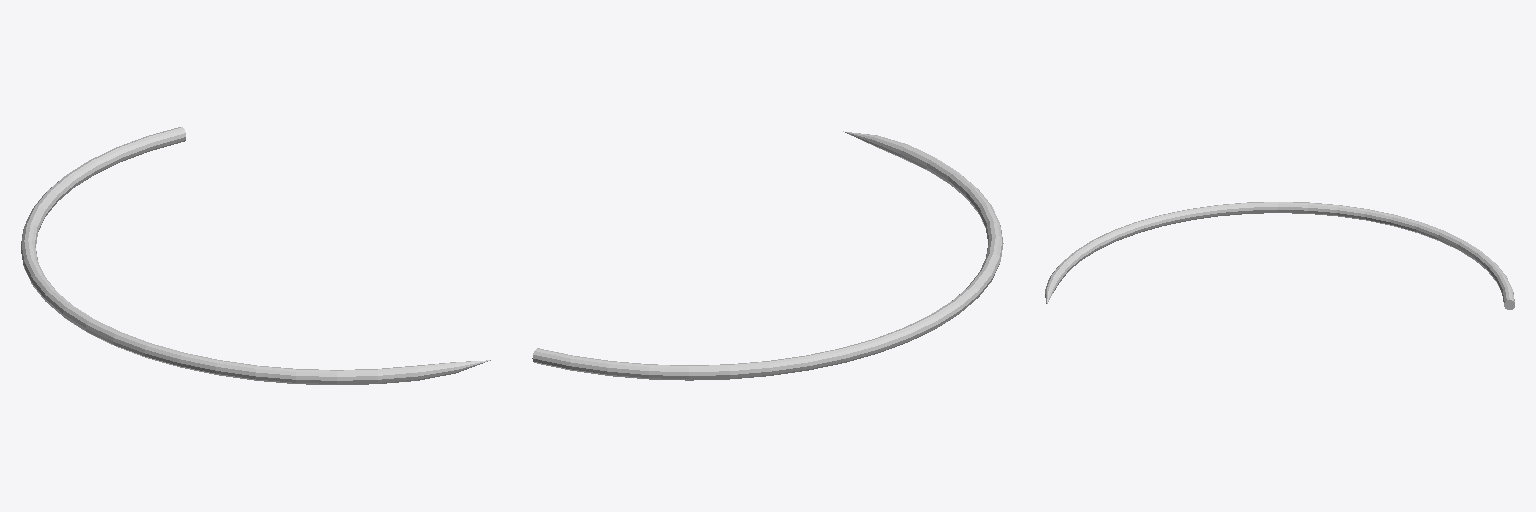
URDF robot description (needle):
<?xml version="0.0" ?>
<robot name="needle">
    <material name="grey">
        <color rgba="0.85 0.85 0.85 1"/>
    </material>

    <link name="baseLink">
        <contact>
            <lateral_friction value="1.0"/>
            <!--      rolling_friction: important (0.1 failed)-->
            <rolling_friction value="0.0"/>
        </contact>
        <inertial>
            <!--      tours: 30, 8-->
            <!--      major radius: 0.02, minor radius: 0.0005-->
            <!--      vis: radius=0.02, in radius=0.0005-->
            <!--      col: radius=0.02, in radius=0.0006-->
            <!--      center of mass: 2*R/pi; important-->
            <origin rpy="0 0 0" xyz="-0.0127 0 0"/>
            <mass value="0.51"/>
            <inertia ixx="0." ixy="0" ixz="0" iyy="0." iyz="0" izz="0."/>
        </inertial>
        <visual>
            <origin rpy="0 0 0" xyz="0 0 0"/>
            <geometry>
                <mesh filename="meshes/needle_40mm.obj" scale="1 1 1"/>
            </geometry>
            <material name="grey"/>
        </visual>
        <collision>
            <origin rpy="0 0 0" xyz="0 0 0"/>
            <geometry>
                <mesh filename="meshes/needle_40mm_vhacd.obj" scale="1 1 1"/>
            </geometry>
        </collision>
    </link>

    <link name="waypoint_0">
        <!--    origin-->
        <inertial>
            <origin rpy="0 0 0" xyz="0 0 0"/>
            <mass value=".0"/>
            <inertia ixx="0." ixy="0" ixz="0" iyy="0." iyz="0" izz="0."/>
        </inertial>
    </link>

    <joint name="waypoint_joint_0" type="fixed">
        <parent link="baseLink"/>
        <child link="waypoint_0"/>
        <origin rpy="0 0 0" xyz="0 0 0"/>
    </joint>

    <link name="waypoint_1">
        <!--    middle-->
        <inertial>
            <origin rpy="0 0 0" xyz="0 0 0"/>
            <mass value=".0"/>
            <inertia ixx="0." ixy="0" ixz="0" iyy="0." iyz="0" izz="0."/>
        </inertial>
        <!--    <visual>-->
        <!--      <origin rpy="0 0 0" xyz="0 0 0"/>-->
        <!--      <geometry>-->
        <!--        <box size="0.005 0.005 0.005"/>-->
        <!--      </geometry>-->
        <!--      <material name="grey"/>-->
        <!--    </visual>-->
    </link>

    <joint name="waypoint_joint_1" type="fixed">
        <parent link="baseLink"/>
        <child link="waypoint_1"/>
        <!--    (-R, 0, 0)-->
        <origin rpy="0 0 0" xyz="-0.02 0 0"/>
    </joint>

    <link name="waypoint_2">
        <!--    left-->
        <inertial>
            <origin rpy="0 0 0" xyz="0 0 0"/>
            <mass value=".0"/>
            <inertia ixx="0." ixy="0" ixz="0" iyy="0." iyz="0" izz="0."/>
        </inertial>
    </link>

    <joint name="waypoint_joint_2" type="fixed">
        <parent link="baseLink"/>
        <child link="waypoint_2"/>
        <!--    (-sqrt(2)R/2, -sqrt(2)R/2, 0)-->
        <origin rpy="0 0 0.785398" xyz="-0.0141421 -0.0141421 0"/>
    </joint>

    <link name="waypoint_3">
        <!--    right-->
        <inertial>
            <origin rpy="0 0 0" xyz="0 0 0"/>
            <mass value=".0"/>
            <inertia ixx="0." ixy="0" ixz="0" iyy="0." iyz="0" izz="0."/>
        </inertial>
    </link>

    <joint name="waypoint_joint_3" type="fixed">
        <parent link="baseLink"/>
        <child link="waypoint_3"/>
        <!--    (-sqrt(2)R/2, sqrt(2)R/2, 0)-->
        <origin rpy="0 0 -0.785398" xyz="-0.0141421 0.0141421 0"/>
    </joint>

    <link name="waypoint_4">
        <!--    left 60deg-->
        <inertial>
            <origin rpy="0 0 0" xyz="0 0 0"/>
            <mass value=".0"/>
            <inertia ixx="0." ixy="0" ixz="0" iyy="0." iyz="0" izz="0."/>
        </inertial>
    </link>

    <joint name="waypoint_joint_4" type="fixed">
        <parent link="baseLink"/>
        <child link="waypoint_4"/>
        <!--    -cos(60)*R, -sin(60)*R, 0)-->
        <origin rpy="0 0 1.047197" xyz="-0.0100000 -0.0173205 0"/>
    </joint>

    <link name="waypoint_5">
        <!--    right 60deg-->
        <inertial>
            <origin rpy="0 0 0" xyz="0 0 0"/>
            <mass value=".0"/>
            <inertia ixx="0." ixy="0" ixz="0" iyy="0." iyz="0" izz="0."/>
        </inertial>
    </link>

    <joint name="waypoint_joint_5" type="fixed">
        <parent link="baseLink"/>
        <child link="waypoint_5"/>
        <!--    -cos(60)*R, sin(60)*R, 0)-->
        <origin rpy="0 0 -1.047198" xyz="-0.0100000 0.0173205 0"/>
    </joint>
</robot>

--- Facts derived from the render (not from the file) ---
3 views of the same robot in one strip: view 1: azimuth 30°, elevation 25°; view 2: azimuth 150°, elevation 25°; view 3: azimuth 270°, elevation 25° (orthographic).
Robot: needle — 7 links, 6 joints (6 fixed); root link baseLink; default pose: every joint at zero.
Visible links, largest first — view 1: baseLink; view 2: baseLink; view 3: baseLink.
Boxes of the visible links, <box> form: baseLink: <box>21,127,490,384</box>; baseLink: <box>532,131,1003,380</box>; baseLink: <box>1045,202,1514,309</box>.
Bounding box of the posed robot: 0.0205 × 0.0407 × 0.001 m (x, y, z).
1 mesh visuals loaded from 1 distinct referenced files (1 OBJ).